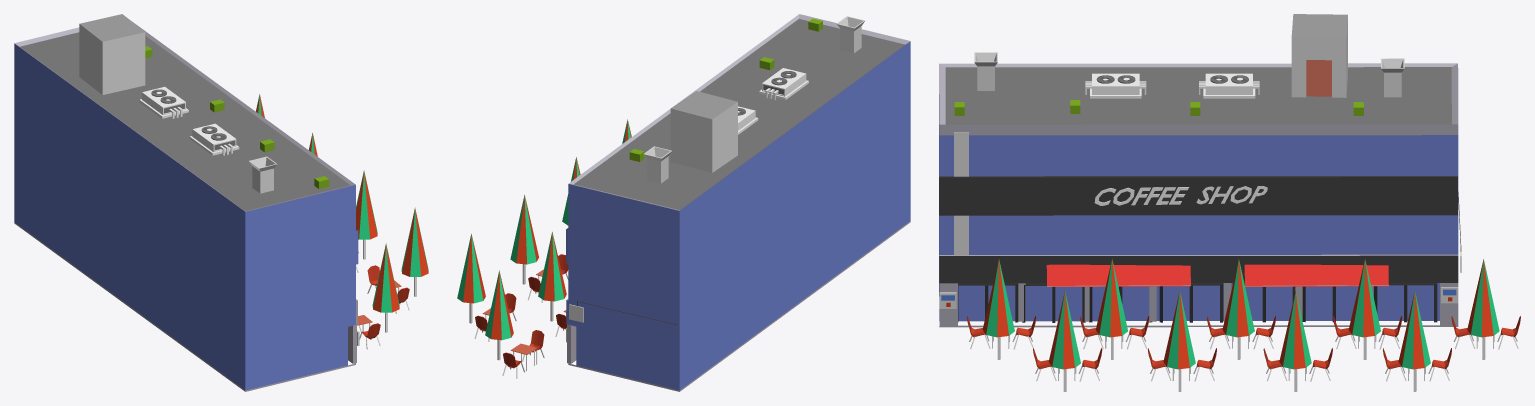
The model's file is Coffee_Shop_tran.glb.
3 views of the same model, side by side, from view 1: azimuth 30°, elevation 25°; view 2: azimuth 150°, elevation 25°; view 3: azimuth 270°, elevation 25° (orthographic). The views are drawn at different scales.
Parts seen in each view (by area): view 1: Cube.11469, Cube.11578, Outer_Siting, Cube.13762, Cube.13761, Cube.11575; view 2: Cube.11469, Outer_Siting, Cube.11578, Cube.13762, Cube.11574, Cube.11575; view 3: Cube.11469, Outer_Siting, Cube.11578, Cube.11564, Cube.11563, Text.003, Cube.13762, Cube.13761, Cube.11579, Cube.11574, Cube.11575, Cube.11569 (+1 smaller).
Part boxes in pixels (x1=…): Cube.11469: x1=14, y1=22, x2=358, y2=391; Cube.11578: x1=79, y1=14, x2=145, y2=94; Outer_Siting: x1=256, y1=94, x2=428, y2=349; Cube.13762: x1=189, y1=123, x2=239, y2=155; Cube.13761: x1=139, y1=86, x2=188, y2=118; Cube.11575: x1=249, y1=156, x2=277, y2=193; Cube.11469: x1=566, y1=14, x2=910, y2=391; Outer_Siting: x1=457, y1=119, x2=631, y2=378; Cube.11578: x1=670, y1=91, x2=737, y2=172; Cube.13762: x1=759, y1=68, x2=808, y2=100; Cube.11574: x1=643, y1=146, x2=672, y2=183; Cube.11575: x1=837, y1=16, x2=864, y2=53; Cube.11469: x1=939, y1=63, x2=1458, y2=327; Outer_Siting: x1=967, y1=259, x2=1520, y2=391; Cube.11578: x1=1291, y1=14, x2=1347, y2=97; Cube.11564: x1=1244, y1=264, x2=1388, y2=286; Cube.11563: x1=1046, y1=264, x2=1190, y2=286; Text.003: x1=1094, y1=186, x2=1267, y2=205; Cube.13762: x1=1085, y1=73, x2=1146, y2=98; Cube.13761: x1=1199, y1=73, x2=1259, y2=98; Cube.11579: x1=954, y1=132, x2=968, y2=255; Cube.11574: x1=1381, y1=58, x2=1404, y2=97; Cube.11575: x1=974, y1=52, x2=997, y2=90; Cube.11569: x1=1159, y1=283, x2=1223, y2=322.
Size of the model in its own units: 0.2581 by 0.2396 by 0.4839.
